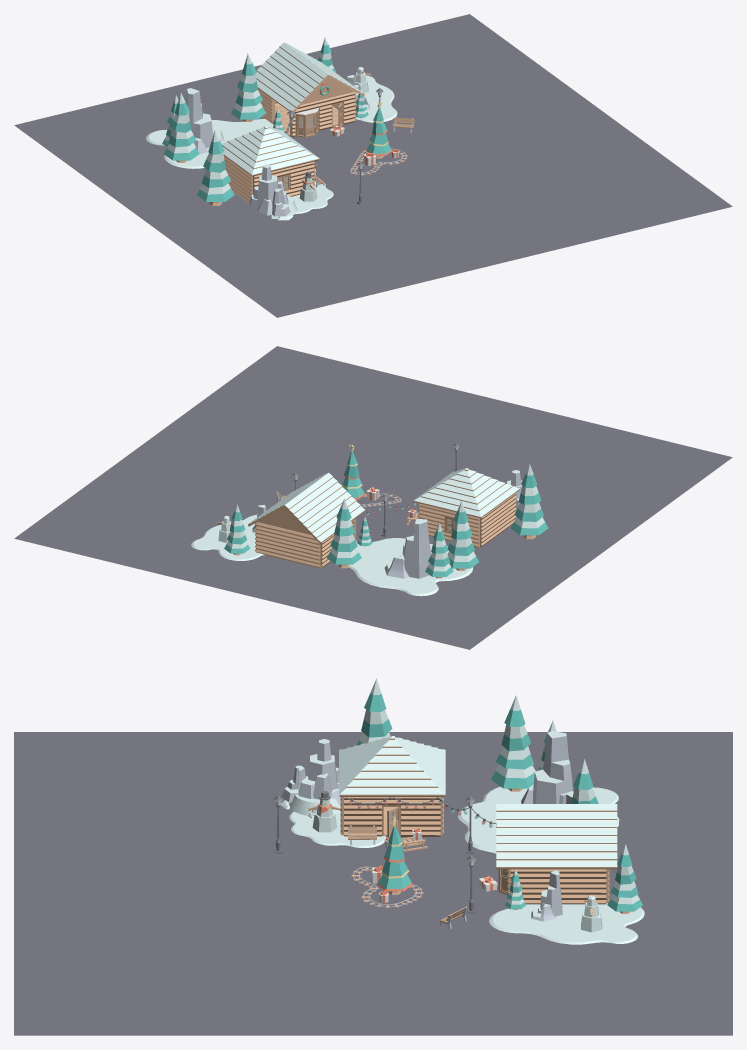
File: christmas.glb
3 views of the same model, one above another, from view 1: azimuth 30°, elevation 25°; view 2: azimuth 150°, elevation 25°; view 3: azimuth 270°, elevation 25° (orthographic). The views are drawn at different scales.
Parts seen in each view (by area): view 1: Floor, treePineSnow(Clone) (×3), snowPatch(Clone) (×3), cabinRoof(Clone) (×2), cabinRoofCorner(Clone) (×3), rockFormationLarge(Clone), rockFormationMedium(Clone), treeDecorated(Clone), cabinDoor(Clone), frame, cabinSideCenter(Clone), cabinWall(Clone) (+1 smaller); view 2: Floor, treePineSnow(Clone) (×5), snowPatch(Clone) (×2), cabinWall(Clone) (×4), cabinRoofCorner(Clone) (×3), cabinRoof(Clone) (×2), rockFormationLarge(Clone), treeDecorated(Clone), cabinSideCenter(Clone); view 3: Floor, cabinRoof(Clone) (×2), snowPatch(Clone) (×3), cabinRoofCorner(Clone) (×4), treePineSnow(Clone) (×4), cabinWall(Clone) (×4), rockFormationLarge(Clone) (×2), rockFormationMedium(Clone), treeDecorated(Clone), cabinDoor(Clone), snowmanFancy(Clone), snowFort(Clone) (+1 smaller).
Part boxes in pixels (left/top/right/bottom): Floor: left=14, top=14, right=732, bottom=317; treePineSnow(Clone) (×3): left=163, top=53, right=265, bottom=205; snowPatch(Clone) (×3): left=146, top=75, right=397, bottom=213; cabinRoof(Clone) (×2): left=255, top=43, right=328, bottom=111; cabinRoofCorner(Clone) (×3): left=221, top=126, right=319, bottom=176; rockFormationLarge(Clone): left=186, top=88, right=224, bottom=154; rockFormationMedium(Clone): left=249, top=164, right=288, bottom=215; treeDecorated(Clone): left=366, top=108, right=391, bottom=158; cabinDoor(Clone): left=322, top=92, right=353, bottom=129; frame: left=295, top=107, right=319, bottom=137; cabinSideCenter(Clone): left=301, top=77, right=354, bottom=104; cabinWall(Clone): left=234, top=164, right=252, bottom=203; Floor: left=14, top=346, right=732, bottom=649; treePineSnow(Clone) (×5): left=224, top=464, right=548, bottom=578; snowPatch(Clone) (×2): left=191, top=515, right=472, bottom=596; cabinWall(Clone) (×4): left=258, top=493, right=516, bottom=568; cabinRoofCorner(Clone) (×3): left=413, top=468, right=519, bottom=518; cabinRoof(Clone) (×2): left=284, top=473, right=365, bottom=543; rockFormationLarge(Clone): left=384, top=518, right=430, bottom=578; treeDecorated(Clone): left=342, top=451, right=365, bottom=500; cabinSideCenter(Clone): left=258, top=507, right=310, bottom=534; Floor: left=14, top=732, right=732, bottom=1035; cabinRoof(Clone) (×2): left=496, top=804, right=617, bottom=869; snowPatch(Clone) (×3): left=289, top=784, right=644, bottom=944; cabinRoofCorner(Clone) (×4): left=339, top=736, right=445, bottom=796; treePineSnow(Clone) (×4): left=357, top=678, right=642, bottom=913; cabinWall(Clone) (×4): left=347, top=797, right=602, bottom=904; rockFormationLarge(Clone) (×2): left=521, top=731, right=573, bottom=921; rockFormationMedium(Clone): left=298, top=739, right=340, bottom=804; treeDecorated(Clone): left=377, top=826, right=412, bottom=894; cabinDoor(Clone): left=368, top=797, right=415, bottom=836; snowmanFancy(Clone): left=308, top=791, right=340, bottom=832; snowFort(Clone): left=280, top=794, right=340, bottom=818.
Size of the model in its own units: 15 by 2.32 by 15.
